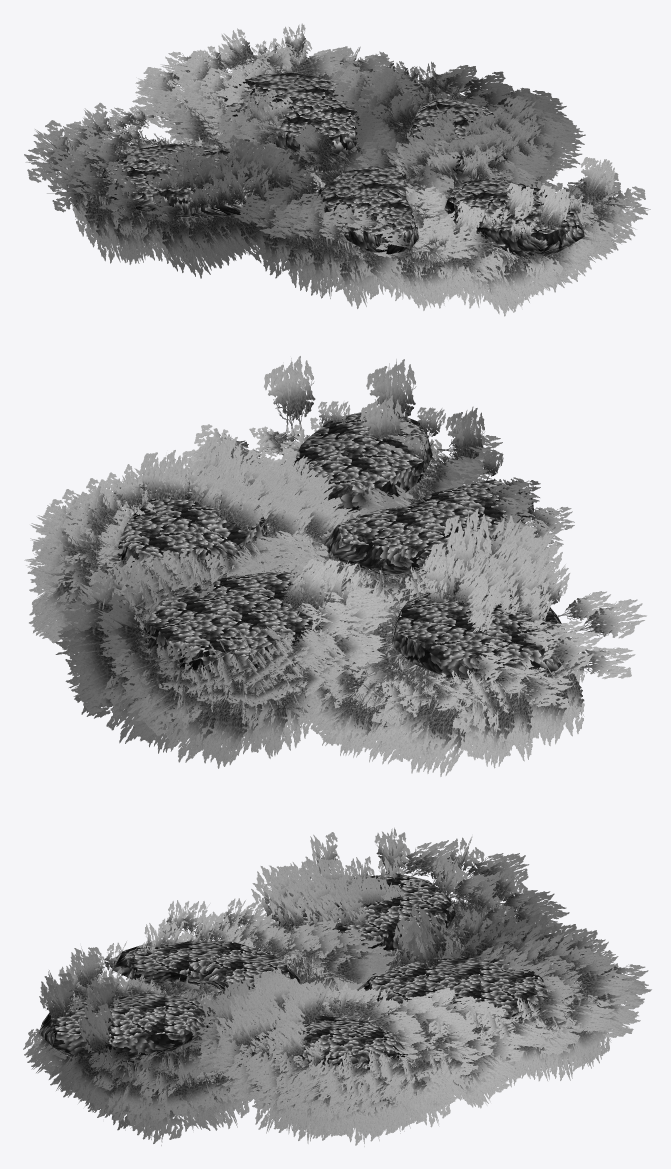
File: canopée_impl.FBX
3 renders of one model, top to bottom at view 1: azimuth 30°, elevation 25°; view 2: azimuth 150°, elevation 25°; view 3: azimuth 270°, elevation 25°, orthographic. The views are drawn at different scales.
Visible parts, largest first — view 1: canopée:barks_Plane641; view 2: canopée:barks_Plane641; view 3: canopée:barks_Plane641.
Part boxes in pixels (<box>): canopée:barks_Plane641: <box>24,23,650,316</box>; canopée:barks_Plane641: <box>24,356,646,776</box>; canopée:barks_Plane641: <box>23,827,651,1146</box>.
Size of the model in its own units: 1708 by 494 by 1792.
Materials: 2 (2 with a texture image).
